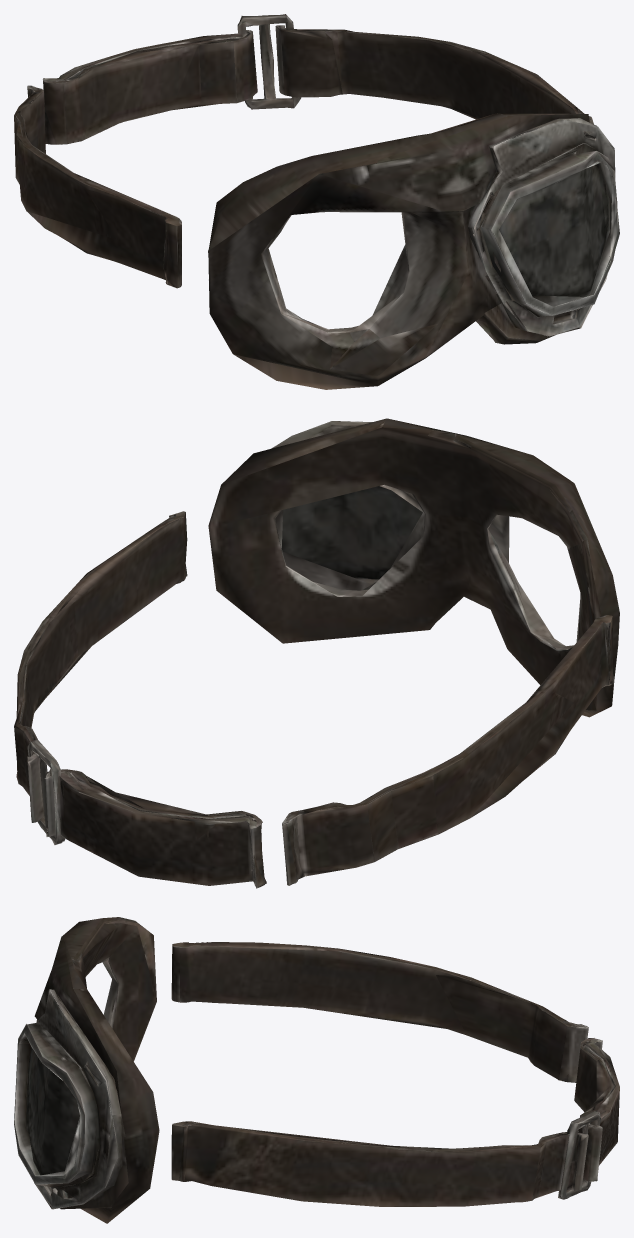
Rendered from goggw.glb.
The picture shows the model from 3 angles, top to bottom: view 1: azimuth 30°, elevation 25°; view 2: azimuth 150°, elevation 25°; view 3: azimuth 270°, elevation 25°; orthographic projection. The views are drawn at different scales.
Visible parts, largest first — view 1: goggw; view 2: goggw; view 3: goggw.
Boxes of the visible parts, box(x1,y1,x2,y2) form: goggw: box(14, 14, 619, 389); goggw: box(14, 418, 619, 888); goggw: box(14, 917, 619, 1223).
Bounding box in the file's own units: 0.1463 × 0.0725 × 0.19.
Materials: 1 (1 with a texture image).
